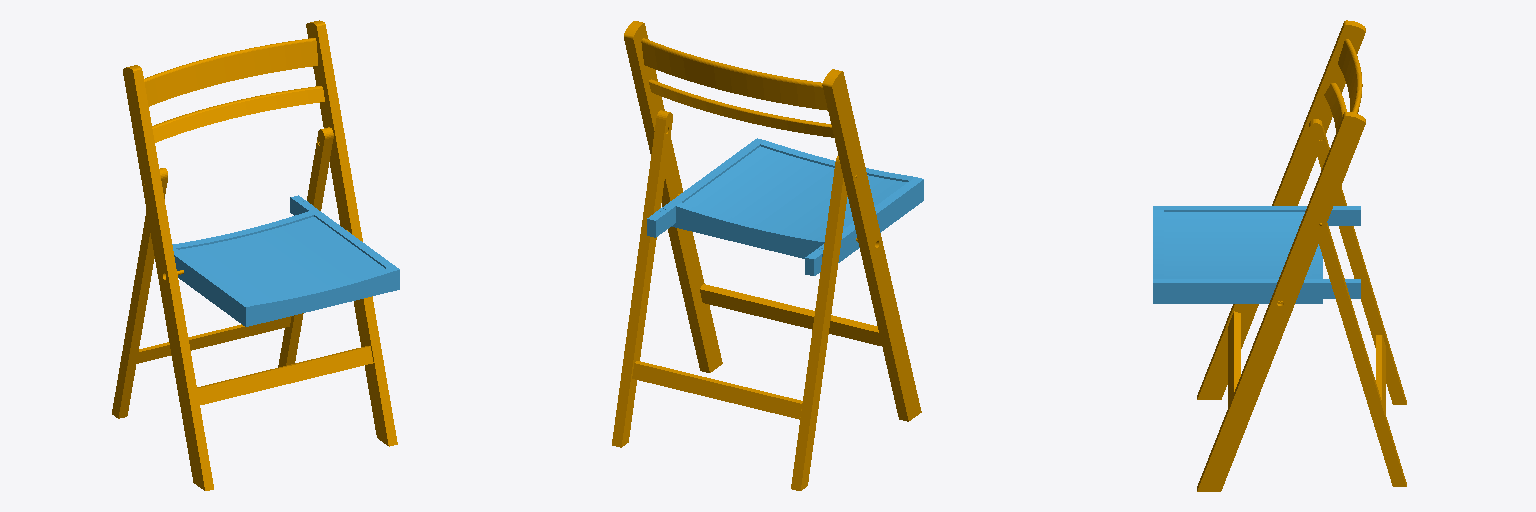
URDF robot description (foldchair_102255):
<?xml version="1.0"?>
<robot name="foldchair_102255">
  <link name="base_link">
    <inertial>
      <origin xyz="0 0 0" rpy="0 0 0"/>
      <mass value="1"/>
      <inertia ixx="0.001" ixy="0" ixz="0" iyy="0.001" iyz="0" izz="0.001"/>
    </inertial>
    <visual>
      <origin xyz="0 0 0" rpy="0 0 0"/>
      <geometry>
        <mesh filename="meshes/base_link.obj" scale="1 1 1"/>
      </geometry>
    </visual>
    <collision>
      <origin xyz="0 0 0" rpy="0 0 0"/>
      <geometry>
        <mesh filename="meshes/base_link.obj" scale="1 1 1"/>
      </geometry>
    </collision>
  </link>
  <link name="moving_link">
    <inertial>
      <origin xyz="0 0 0" rpy="0 0 0"/>
      <mass value="1"/>
      <inertia ixx="0.001" ixy="0" ixz="0" iyy="0.001" iyz="0" izz="0.001"/>
    </inertial>
    <visual>
      <origin xyz="0 0.012001708 -0.0079950423" rpy="0 0 0"/>
      <geometry>
        <mesh filename="meshes/moving_link.obj" scale="1 1 1"/>
      </geometry>
    </visual>
    <collision>
      <origin xyz="0 0.012001708 -0.0079950423" rpy="0 0 0"/>
      <geometry>
        <mesh filename="meshes/moving_link.obj" scale="1 1 1"/>
      </geometry>
    </collision>
  </link>
  <joint name="foldchair_102255_joint" type="revolute">
    <parent link="base_link"/>
    <child link="moving_link"/>
    <origin xyz="0 -0.012001708 0.0079950423" rpy="0 0 0"/>
    <axis xyz="1 0 0"/>
    <limit lower="-1.3962634016" upper="0" effort="100" velocity="10"/>
  </joint>
</robot>

--- Render facts (derived) ---
The picture shows the robot from 3 angles, left to right: view 1: azimuth 30°, elevation 25°; view 2: azimuth 150°, elevation 25°; view 3: azimuth 270°, elevation 25°; orthographic projection.
Model foldchair_102255 with 2 links and 1 joints (1 revolute), rooted at base_link, posed all joints at 0.
Links seen in each view (by area): view 1: base_link, moving_link; view 2: base_link, moving_link; view 3: base_link, moving_link.
Link boxes in pixels (bbox=[...]): base_link: bbox=[112, 20, 397, 490]; moving_link: bbox=[172, 195, 399, 326]; base_link: bbox=[612, 21, 921, 490]; moving_link: bbox=[647, 138, 923, 275]; base_link: bbox=[1197, 20, 1406, 491]; moving_link: bbox=[1153, 206, 1360, 303].
Bounding box of the posed robot: 0.891 × 0.9893 × 1.62 m (x, y, z).
2 mesh visuals loaded from 2 distinct referenced files (2 OBJ).
